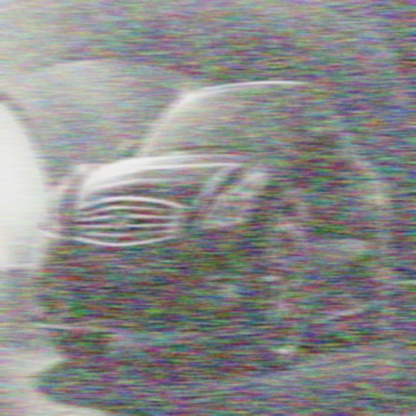Vehicle: (29, 79, 398, 376)
